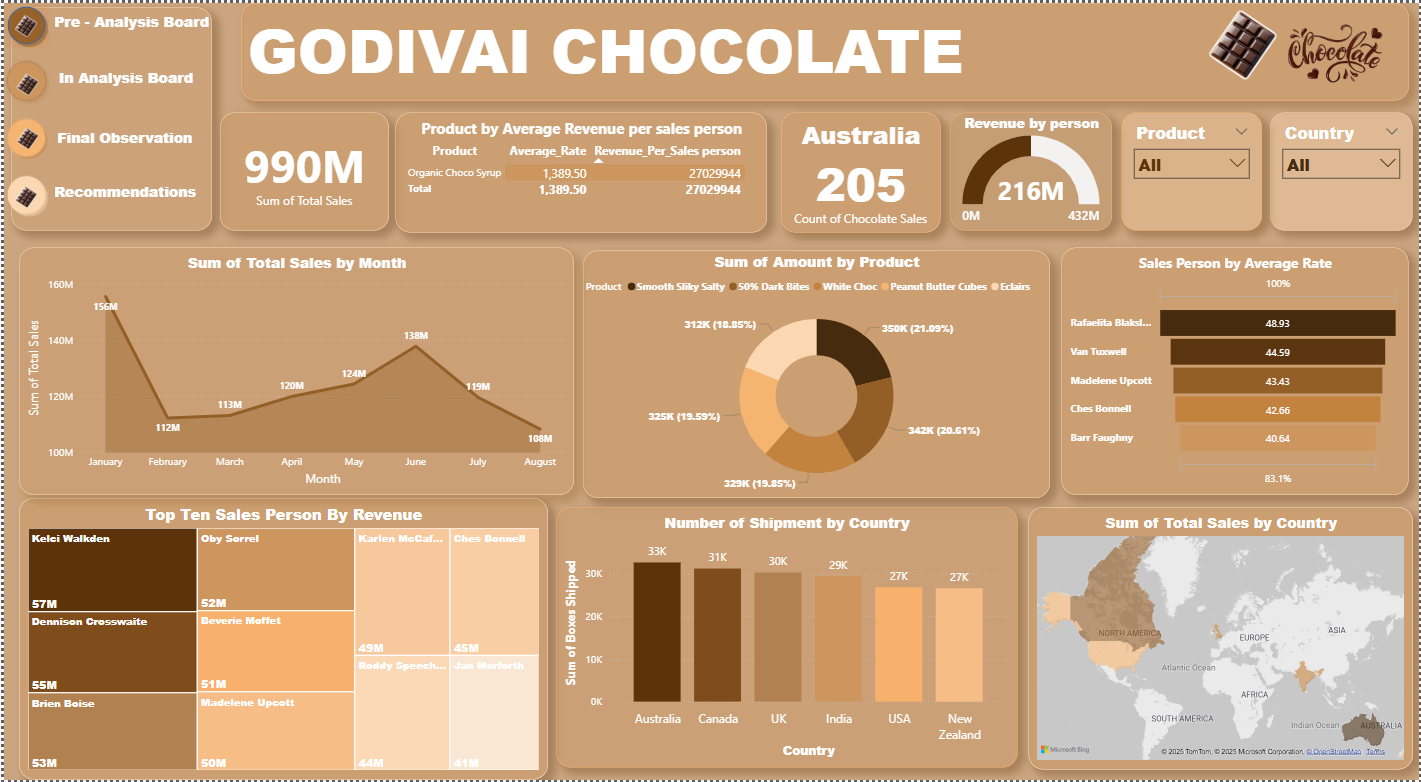

This screenshot's page, from the dashboard's own definition file:
{"tool":"powerbi","page":{"name":"Main Board","canvas":[1887,1036],"ordinal":0},"visuals":[{"type":"treemap","title":"Top Ten Sales Person By Revenue","fields":{"Group":["Chocolate Sales.Sales Person"],"Values":["Chocolate Sales.Total Sales"]},"box":[20,660,705,375],"z":0},{"type":"filledMap","fields":{"Category":["Chocolate Sales.Country"]},"box":[1365,672.5,512.5,350],"z":1000},{"type":"donutChart","fields":{"Category":["Chocolate Sales.Product"],"Y":["Chocolate Sales.Amount"]},"box":[772.5,330,622.5,330],"z":2000},{"type":"slicer","fields":{"Values":["Chocolate Sales.Country"]},"box":[1687.5,145,190,157.5],"z":3000},{"type":"funnel","title":"Sales Person by Average Rate","fields":{"Category":["Chocolate Sales.Sales Person"],"Y":["Chocolate Sales.Average_Rate"]},"box":[1410,325,462.5,330],"z":4000},{"type":"textbox","box":[10,5,267.5,297.5],"z":5000},{"type":"areaChart","fields":{"Y":["Chocolate Sales.Total Sales"],"Category":["Chocolate Sales.Date.Variation.Date Hierarchy.Month"]},"box":[20,325,740,330],"z":6000},{"type":"card","fields":{"Values":["Chocolate Sales.Total Sales"]},"box":[287.5,145,225,157.5],"z":7000},{"type":"pivotTable","title":"Product by Average Revenue per sales person","fields":{"Rows":["Chocolate Sales.Sales Person","Chocolate Sales.Country","Chocolate Sales.Product","Chocolate Sales.Date","Chocolate Sales.Amount","Chocolate Sales.Boxes Shipped","Chocolate Sales.Total Sales"],"Values":["Chocolate Sales.Average_Rate","Chocolate Sales.Revenue_Per_Sales person"]},"box":[522.5,145,495,160],"z":8000},{"type":"shape","box":[315,0,1557.5,130],"z":9000},{"type":"shape","box":[0,0,60,60],"z":10000},{"type":"shape","box":[0,74,60,60],"z":11000},{"type":"shape","box":[0,150,60,60],"z":12000},{"type":"shape","box":[0,226,60,60],"z":13000},{"type":"textbox","box":[62,6,248,54],"z":14000},{"type":"textbox","box":[68,80,248,54],"z":15000},{"type":"textbox","box":[66,160,238,54],"z":16000},{"type":"textbox","box":[62,232,258,54],"z":17000},{"type":"columnChart","title":"Number of Shipment by Country","fields":{"Y":["Chocolate Sales.Boxes Shipped"],"Category":["Chocolate Sales.Country"]},"box":[735,672.5,615,347.5],"z":18000},{"type":"card","title":"Australia","fields":{"Values":["Chocolate Sales"]},"box":[1035,145,212.5,160],"z":19000},{"type":"gauge","title":"Revenue by person","fields":{"Y":["Chocolate Sales.Revenue_Per_Sales person"]},"box":[1262.5,145,215,157.5],"z":20000},{"type":"slicer","fields":{"Values":["Chocolate Sales.Product"]},"box":[1490,145,187.5,157.5],"z":21000},{"type":"textbox","box":[320,0,1012,130],"z":22000},{"type":"image","box":[1652,0,242,134],"z":23000},{"type":"image","box":[1578,0,146,108],"z":24000},{"type":"image","box":[8,10,42,40],"z":25000},{"type":"image","box":[10,88,42,40],"z":26000},{"type":"image","box":[10,160,42,40],"z":27000},{"type":"image","box":[8,238,42,40],"z":28000}]}

Visuals, with their boxes in screenshot pixels (x1, y1, x2, y2), scaled from the page's 1887x1036 canvas onto the 1421x782 screenshot:
"Top Ten Sales Person By Revenue" treemap: <region>15, 498, 546, 781</region>
filledMap - Chocolate Sales.Country: <region>1028, 508, 1414, 772</region>
donutChart - Chocolate Sales.Product x Chocolate Sales.Amount: <region>582, 249, 1051, 498</region>
slicer - Chocolate Sales.Country: <region>1271, 109, 1414, 228</region>
"Sales Person by Average Rate" funnel: <region>1062, 245, 1410, 494</region>
textbox: <region>8, 4, 209, 228</region>
areaChart - Chocolate Sales.Total Sales x Chocolate Sales.Date.Variation.Date Hierarchy.Month: <region>15, 245, 572, 494</region>
card - Chocolate Sales.Total Sales: <region>217, 109, 386, 228</region>
"Product by Average Revenue per sales person" pivotTable: <region>393, 109, 766, 230</region>
shape: <region>237, 0, 1410, 98</region>
shape: <region>0, 0, 45, 45</region>
shape: <region>0, 56, 45, 101</region>
shape: <region>0, 113, 45, 159</region>
shape: <region>0, 171, 45, 216</region>
textbox: <region>47, 5, 233, 45</region>
textbox: <region>51, 60, 238, 101</region>
textbox: <region>50, 121, 229, 162</region>
textbox: <region>47, 175, 241, 216</region>
"Number of Shipment by Country" columnChart: <region>553, 508, 1017, 770</region>
"Australia" card: <region>779, 109, 939, 230</region>
"Revenue by person" gauge: <region>951, 109, 1113, 228</region>
slicer - Chocolate Sales.Product: <region>1122, 109, 1263, 228</region>
textbox: <region>241, 0, 1003, 98</region>
image: <region>1244, 0, 1420, 101</region>
image: <region>1188, 0, 1298, 82</region>
image: <region>6, 8, 38, 38</region>
image: <region>8, 66, 39, 97</region>
image: <region>8, 121, 39, 151</region>
image: <region>6, 180, 38, 210</region>
